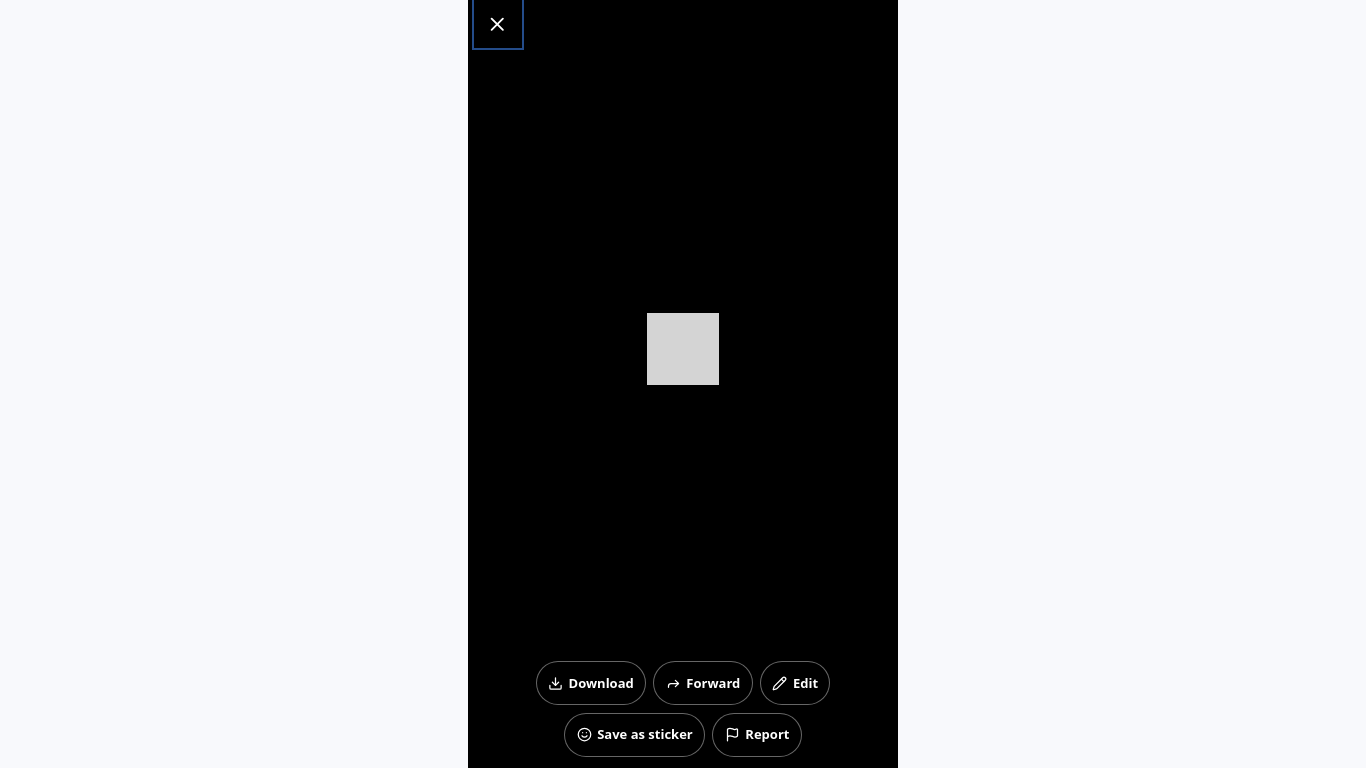
it: MediaViewer › hides Report on your own messages, and Report opens the report form for a message
Click the button "Report": (757, 735) [712, 713, 802, 757]
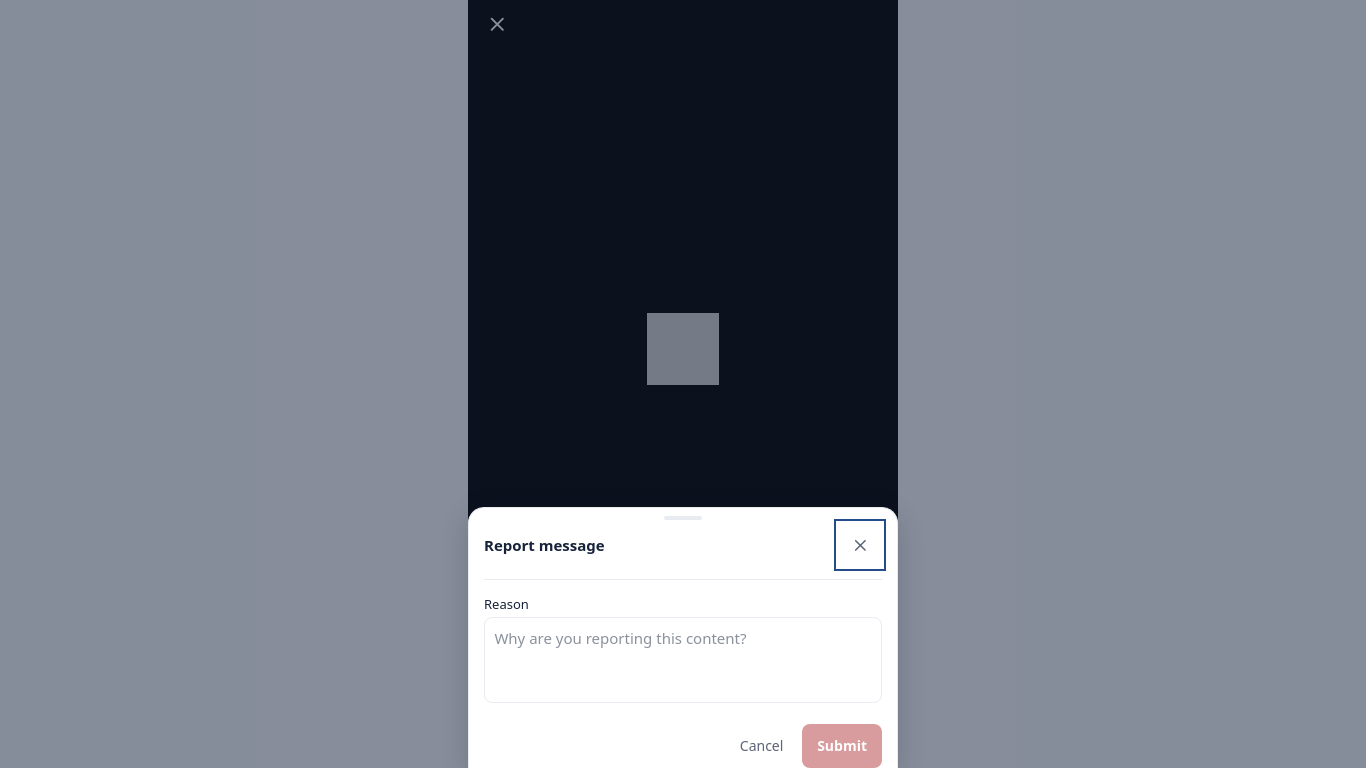
Expected: the text box labelled "Reason" is shown, [484, 617, 882, 703]
